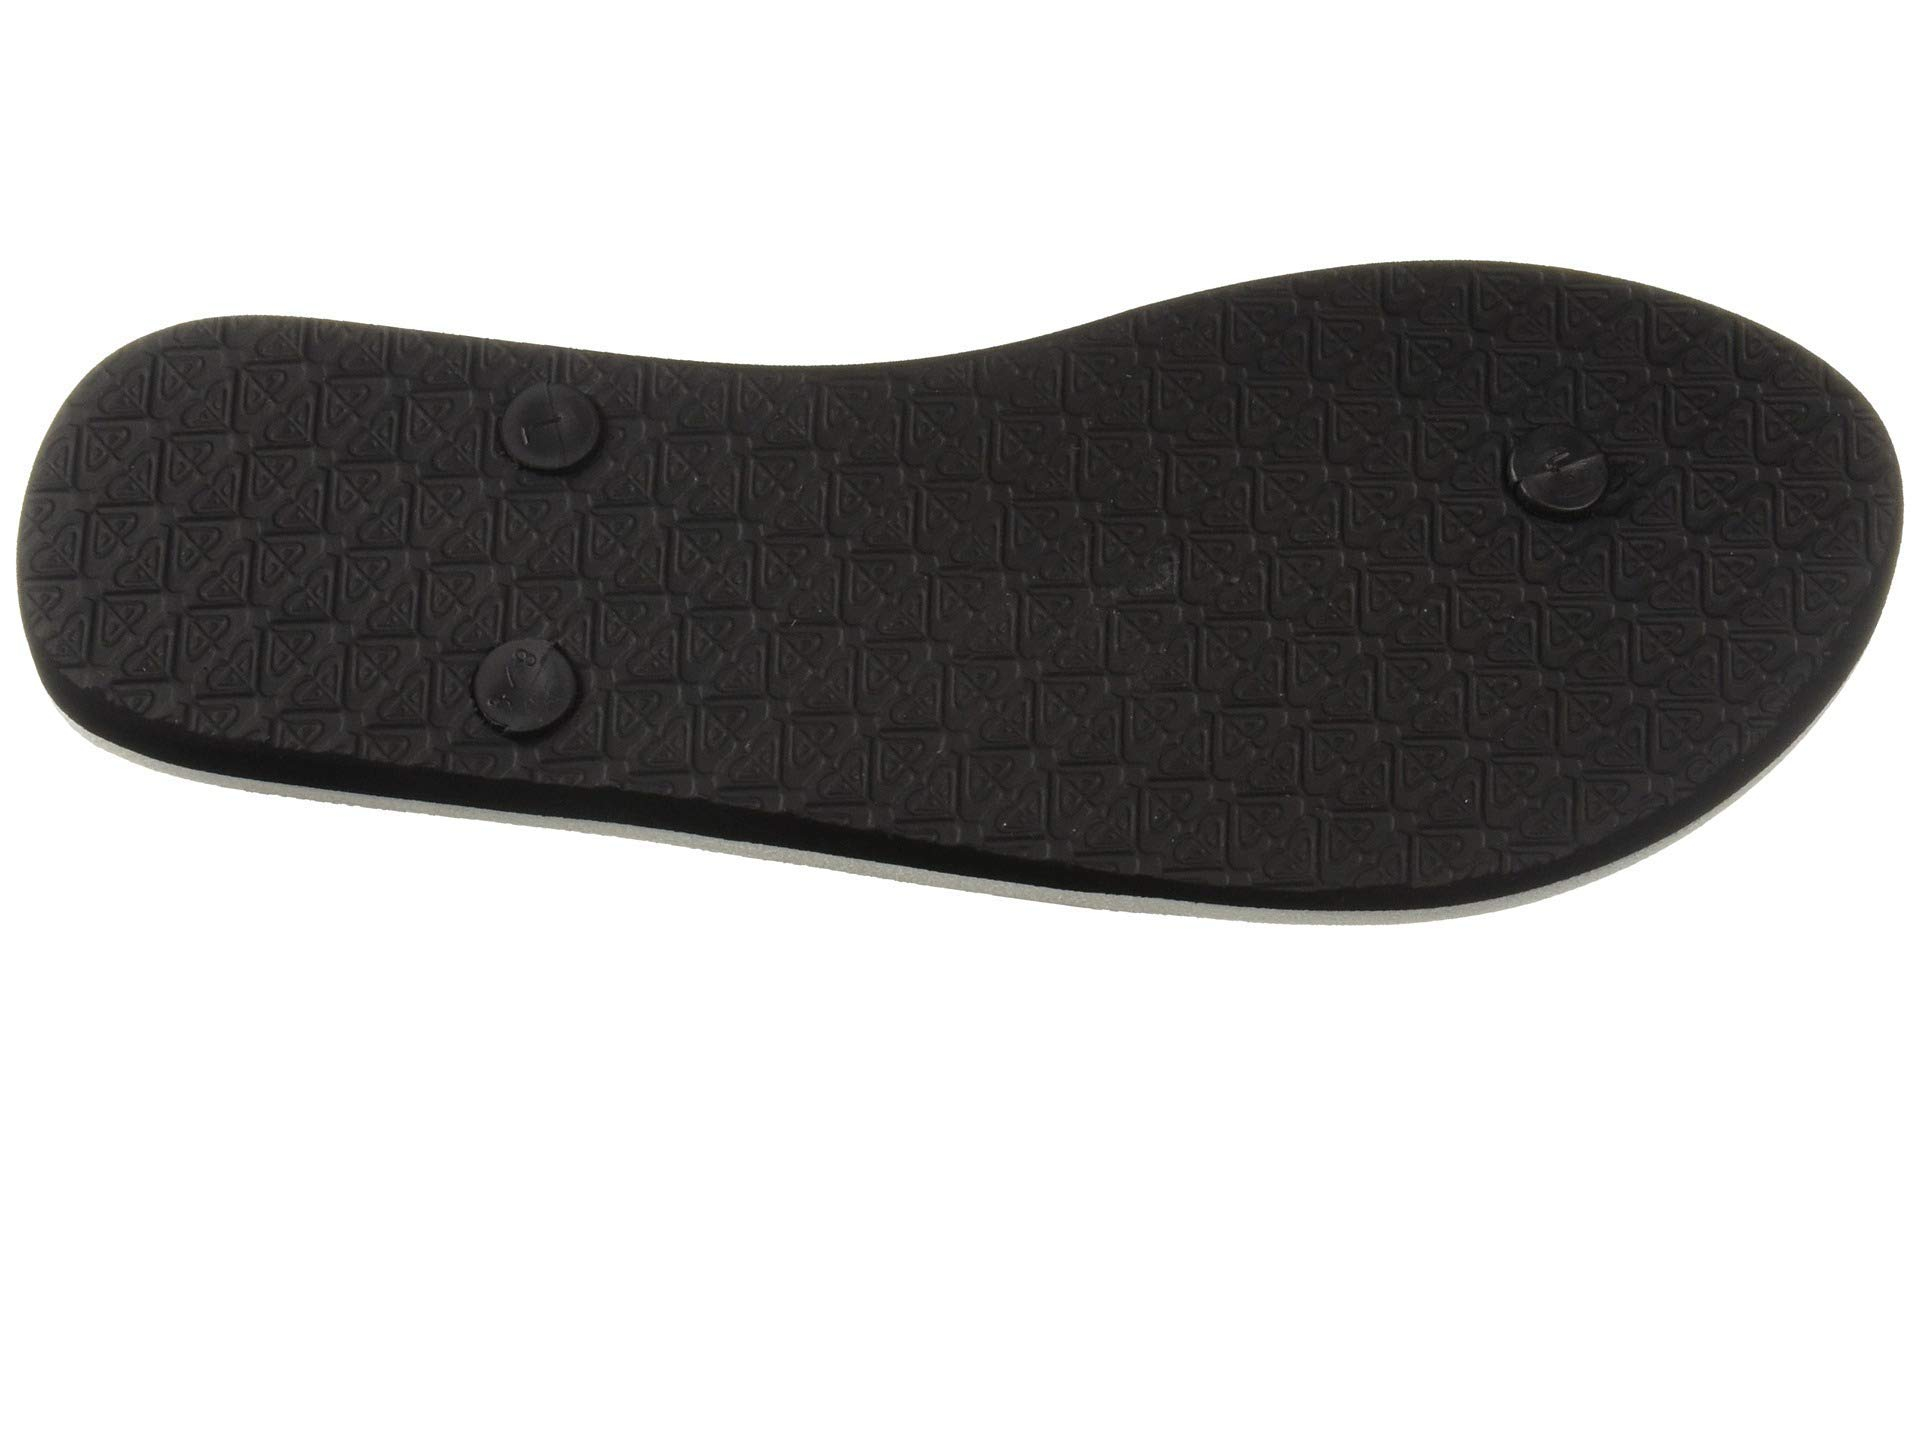triangle: (744, 399, 1147, 824)
